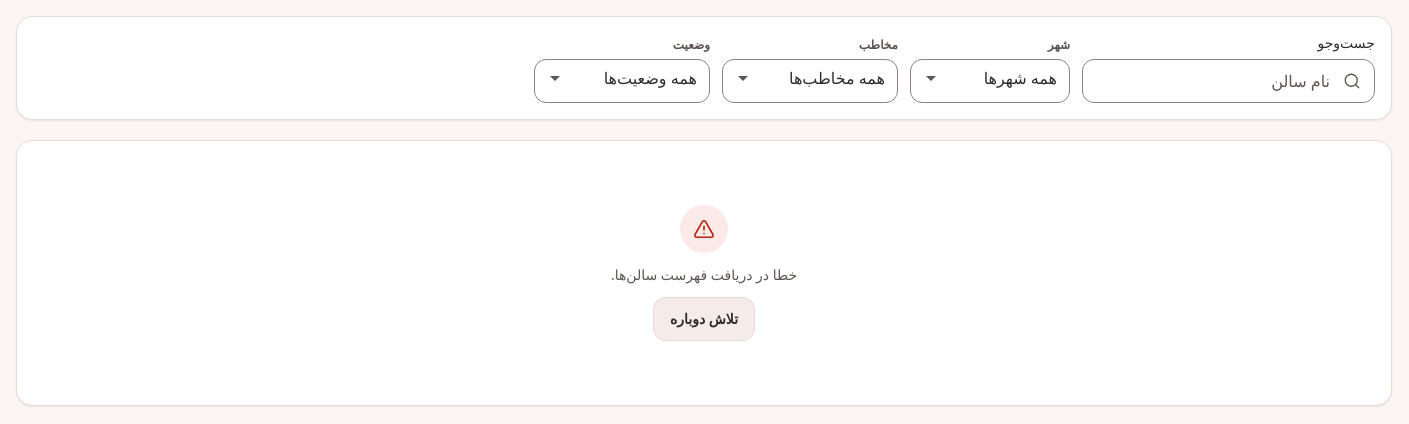
Test case: SalonsView › shows a distinct error state (not the empty state) when the fetch fails, and retry reloads
The image size is (1409, 424).
Click the button with test id "retry-load" at (704, 319), box x1=653 y1=297 x2=755 y2=341
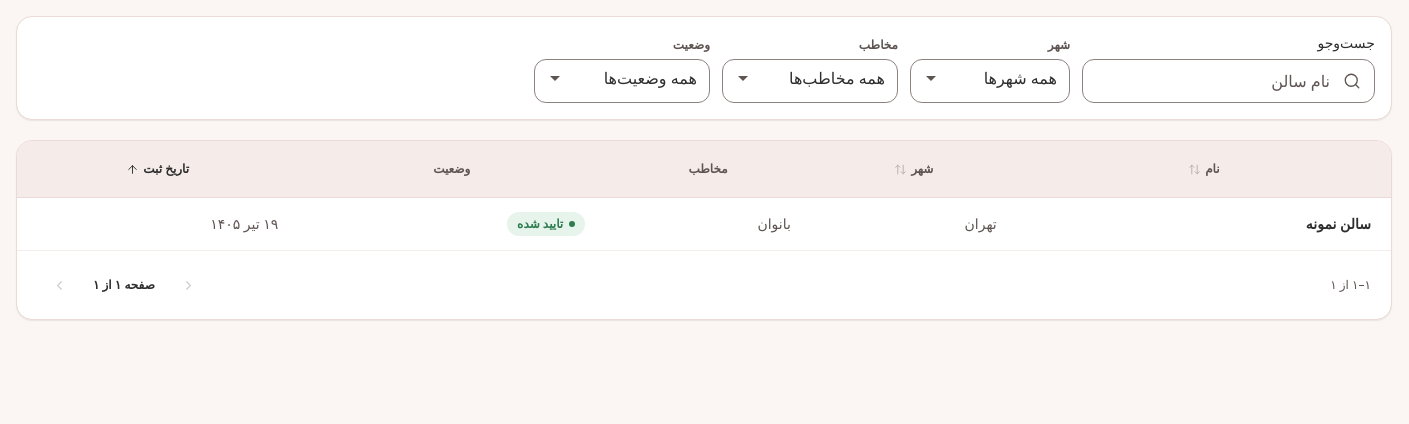
Result: the text "سالن نمونه" is shown at x1=1306 y1=214 x2=1371 y2=233
